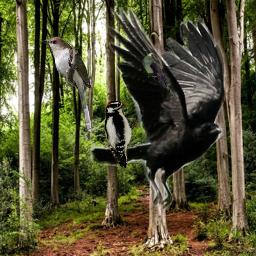Crow: (90, 7, 228, 214)
Cuckoo: (40, 36, 92, 133), (142, 52, 178, 98)
Woodpecker: (105, 101, 139, 168)
